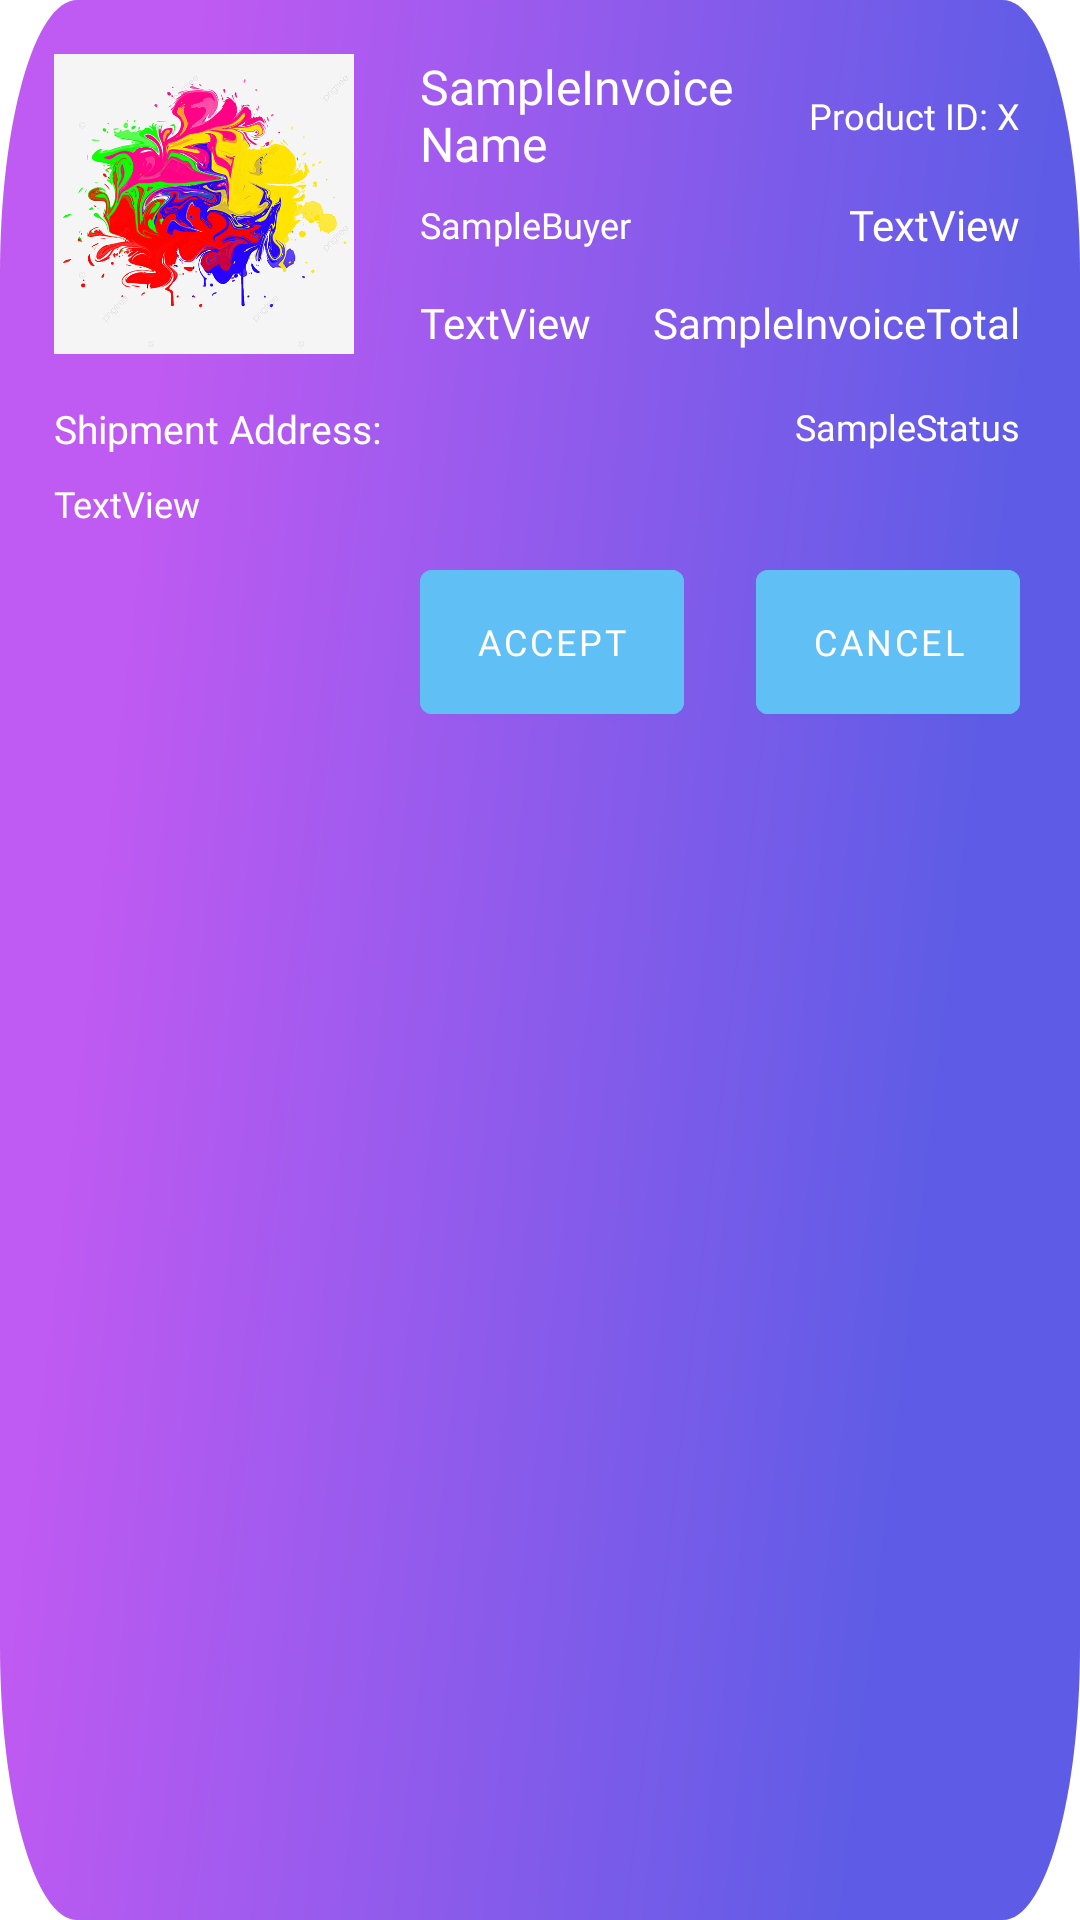

Icon click points for this 1080w x 1920h phone screenshot, format point (x, y):
art: point (204, 204)
